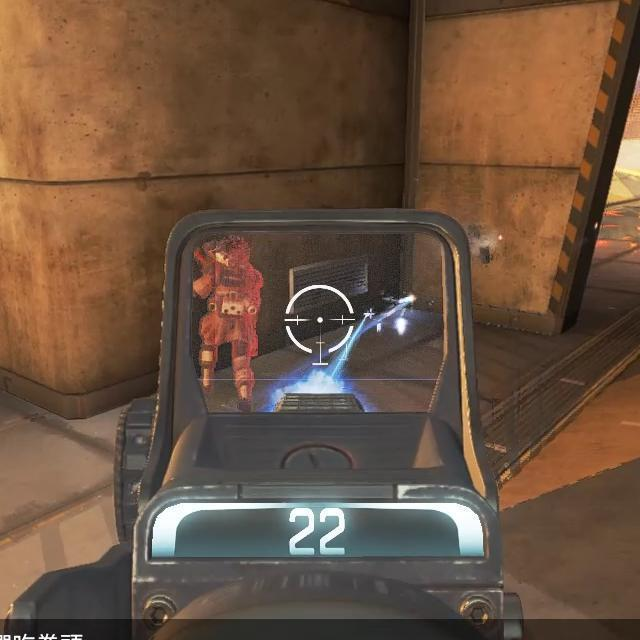avatar: (191, 234, 265, 414)
